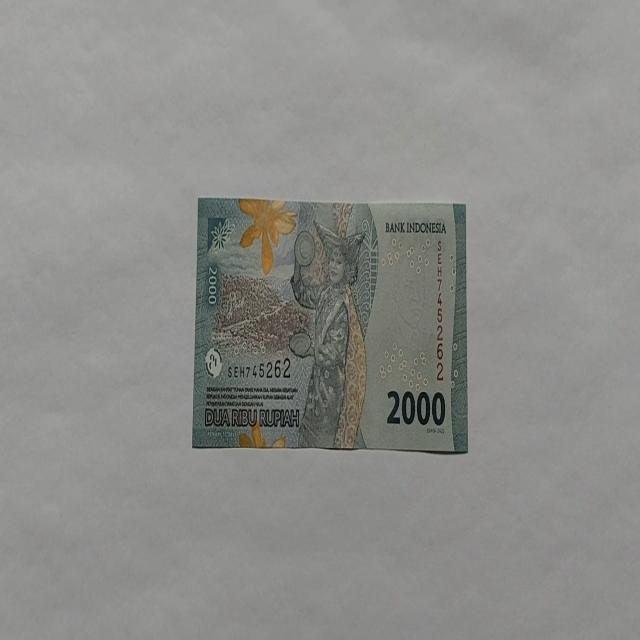dua ribu rupiah: (192, 196, 468, 454), (288, 219, 368, 449)
